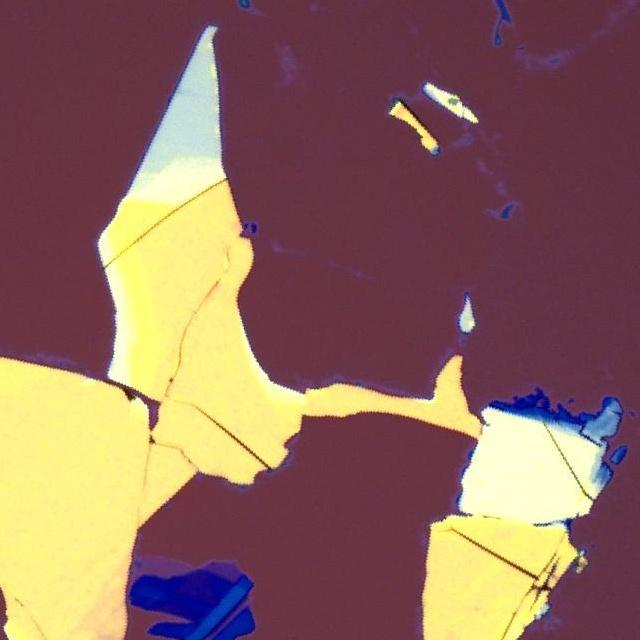monolayer-eWW4: (132, 554, 196, 580)
